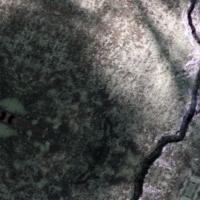crack: (121, 1, 199, 199)
